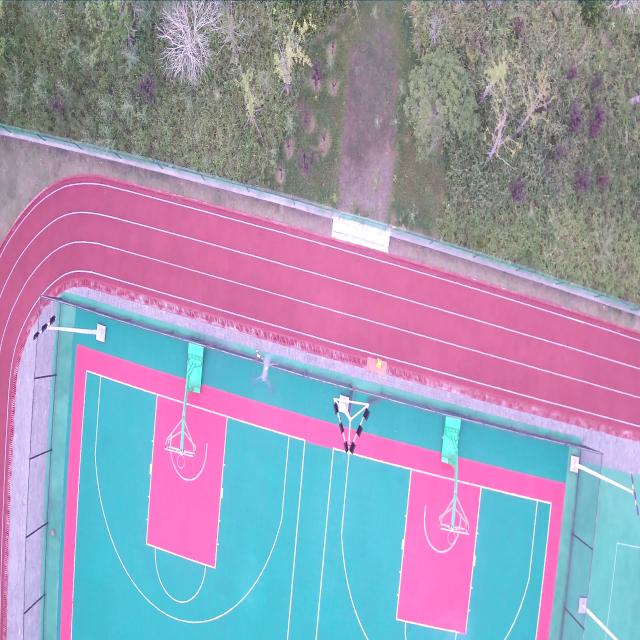UAV: (252, 351, 280, 393)
